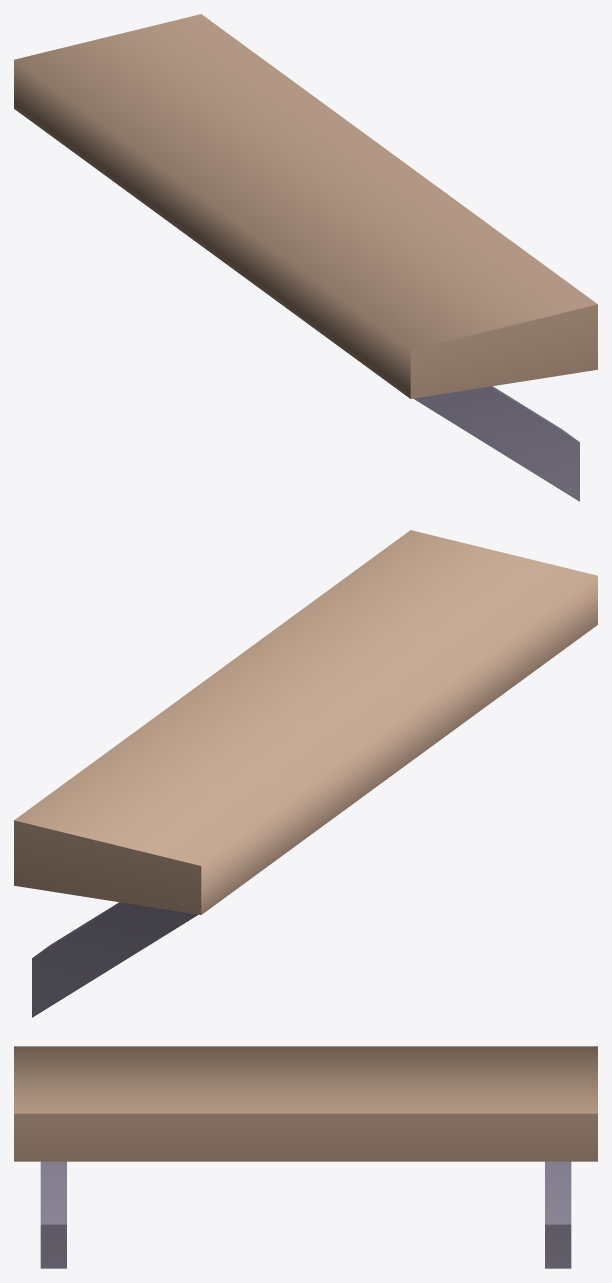
File: shelf-support-long (%wall).glb
3 views of the same model, one above another, from view 1: azimuth 30°, elevation 25°; view 2: azimuth 150°, elevation 25°; view 3: azimuth 270°, elevation 25° (orthographic). The views are drawn at different scales.
Visible parts, largest first — view 1: shelf-support-long (%wall); view 2: shelf-support-long (%wall); view 3: shelf-support-long (%wall).
Part boxes in pixels (left/top/right/bottom): shelf-support-long (%wall): left=14, top=14, right=597, bottom=501; shelf-support-long (%wall): left=14, top=530, right=597, bottom=1017; shelf-support-long (%wall): left=14, top=1046, right=597, bottom=1268.
Bounding box in the file's own units: 0.3 × 0.3225 × 1.1.
